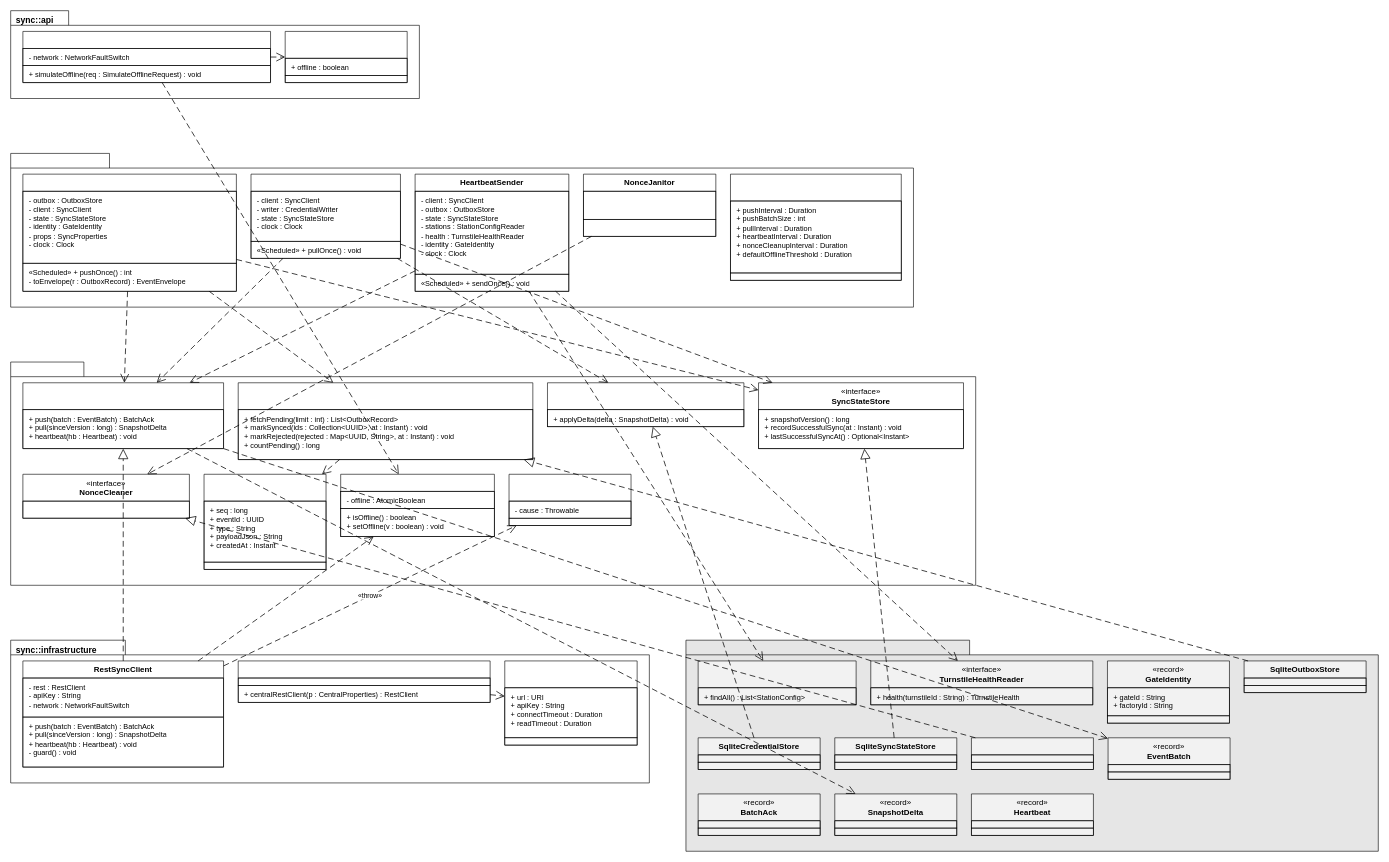
This 1389x862 diagram has some shape labels left out. Here are the shapes that lost their labels. From the top down, the box of each, then its label:
(22, 31, 271, 83): FaultInjectionController
(285, 31, 407, 83): «record» SimulateOfflineRequest
(250, 174, 400, 258): SnapshotPuller
(583, 191, 716, 219): - cleaner : NonceCleaner - clock : Clock
(22, 174, 236, 291): OutboxPusher
(10, 153, 913, 307): sync::application
(583, 219, 716, 236): «Scheduled» + purge() : int
(730, 174, 901, 280): «record» SyncProperties
(22, 382, 224, 449): «interface» SyncClient
(238, 382, 533, 460): «interface» OutboxStore
(547, 382, 744, 427): «interface» CredentialWriter
(10, 361, 976, 585): sync::domain
(22, 501, 189, 518): + purgeExpired(now : Instant) : int
(340, 474, 494, 536): NetworkFaultSwitch
(508, 474, 631, 526): «exception» SyncUnavailableException
(203, 474, 326, 569): «record» OutboxRecord
(238, 660, 490, 702): SyncClientConfig
(698, 660, 856, 705): «interface» StationConfigReader
(504, 660, 637, 745): «record» CentralProperties
(685, 640, 1378, 851): access::domain (G1) / localstore (G3) / sync-contract
(971, 737, 1093, 770): SqliteScanStore
